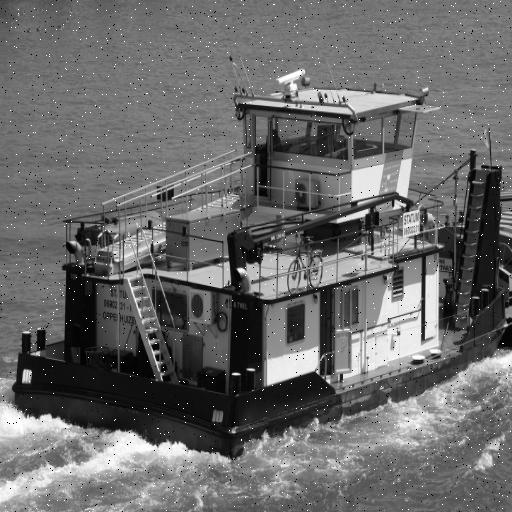tugboat: (7, 43, 512, 472)
